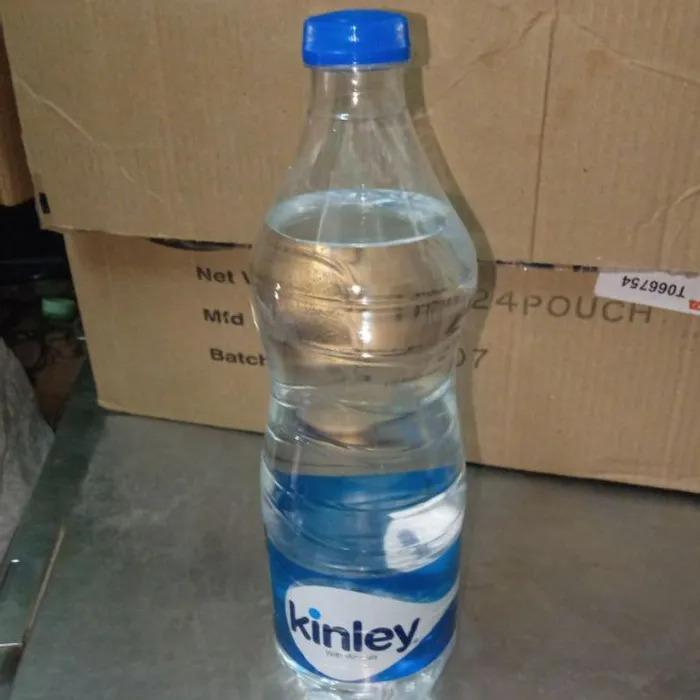bottle: (252, 7, 488, 700)
